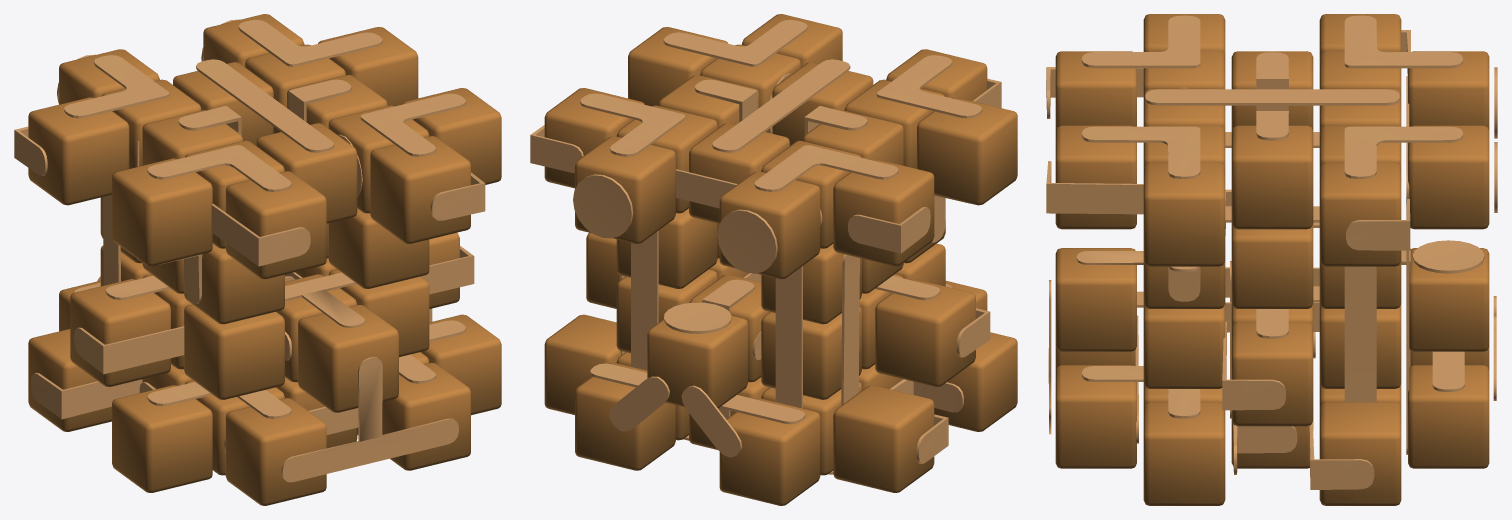
File: level_134.fbx
3 renders of one model, left to right at view 1: azimuth 30°, elevation 25°; view 2: azimuth 150°, elevation 25°; view 3: azimuth 270°, elevation 25°, orthographic. The views are drawn at different scales.
Parts seen in each view (by area): view 1: Cube_L1_8.020, Cube_L1_8.012, Cube_L1_8.039, Cube_L1_8.029, Cube_L1_8.016, Cube_L1_8.028, Cube_L1_8.023, Link_29, Cube_L1_8.027, Cube_L1_8.025, Cube_L1_8.030, Cube_L1_8.009 (+45 smaller); view 2: Cube_L1_8.047, Cube_L1_8.012, Cube_L1_8.025, Cube_L1_8.033, Cube_L1_8.024, Cube_L1_8.039, Cube_L1_8.034, Cube_L1_8.031, Cube_L1_8.032, Cube_L1_8.049, Cube_L1_8.020, Cube_L1_8.043 (+49 smaller); view 3: Cube_L1_8.004, Cube_L1_8.014, Cube_L1_8.022, Cube_L1_8.032, Cube_L1_8.023, Cube_L1_8.034, Cube_L1_8.030, Cube_L1_8.049, Cube_L1_8.024, Cube_L1_8.002, Cube_L1_8.026, Cube_L1_8.017 (+44 smaller).
Part boxes in pixels (x1=…): Cube_L1_8.020: x1=112, y1=385, x2=212, y2=492; Cube_L1_8.012: x1=112, y1=158, x2=212, y2=266; Cube_L1_8.039: x1=28, y1=97, x2=129, y2=205; Cube_L1_8.029: x1=225, y1=398, x2=326, y2=505; Cube_L1_8.016: x1=184, y1=304, x2=284, y2=399; Cube_L1_8.028: x1=370, y1=136, x2=470, y2=243; Cube_L1_8.023: x1=298, y1=305, x2=398, y2=412; Link_29: x1=281, y1=357, x2=458, y2=482; Cube_L1_8.027: x1=225, y1=171, x2=326, y2=279; Cube_L1_8.025: x1=70, y1=279, x2=170, y2=386; Cube_L1_8.030: x1=382, y1=363, x2=470, y2=470; Cube_L1_8.009: x1=328, y1=208, x2=429, y2=288; Cube_L1_8.047: x1=833, y1=385, x2=934, y2=492; Cube_L1_8.012: x1=917, y1=97, x2=1017, y2=205; Cube_L1_8.025: x1=875, y1=279, x2=975, y2=386; Cube_L1_8.033: x1=719, y1=398, x2=820, y2=505; Cube_L1_8.024: x1=647, y1=316, x2=748, y2=408; Cube_L1_8.039: x1=833, y1=158, x2=934, y2=266; Cube_L1_8.034: x1=575, y1=363, x2=675, y2=470; Cube_L1_8.031: x1=719, y1=171, x2=820, y2=279; Cube_L1_8.032: x1=575, y1=136, x2=675, y2=243; Cube_L1_8.049: x1=544, y1=314, x2=620, y2=414; Cube_L1_8.020: x1=934, y1=332, x2=1017, y2=431; Cube_L1_8.043: x1=761, y1=307, x2=861, y2=399; Cube_L1_8.004: x1=1231, y1=125, x2=1313, y2=229; Cube_L1_8.014: x1=1143, y1=163, x2=1225, y2=266; Cube_L1_8.022: x1=1143, y1=402, x2=1225, y2=505; Cube_L1_8.032: x1=1408, y1=125, x2=1489, y2=229; Cube_L1_8.023: x1=1055, y1=248, x2=1136, y2=351; Cube_L1_8.034: x1=1408, y1=365, x2=1489, y2=468; Cube_L1_8.030: x1=1055, y1=365, x2=1136, y2=468; Cube_L1_8.049: x1=1319, y1=402, x2=1401, y2=505; Cube_L1_8.024: x1=1409, y1=248, x2=1489, y2=351; Cube_L1_8.002: x1=1231, y1=224, x2=1313, y2=308; Cube_L1_8.026: x1=1231, y1=322, x2=1313, y2=426; Cube_L1_8.017: x1=1143, y1=304, x2=1225, y2=388.
Bounding box in the file's own units: 11.38 × 9.12 × 11.33.
